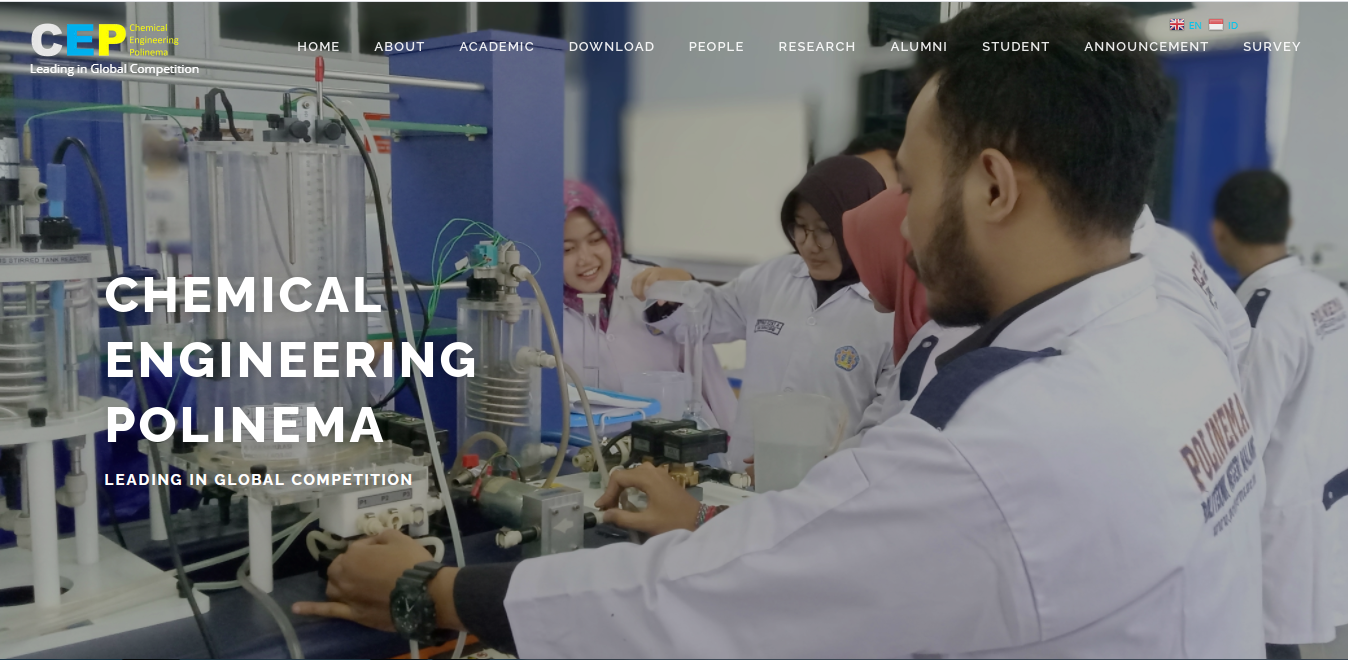Image: (0, 0, 1348, 660), (16, 12, 213, 87)
Menu Bar: (278, 32, 1320, 64)
Nav Bar: (1163, 12, 1205, 34), (1206, 13, 1241, 34)
